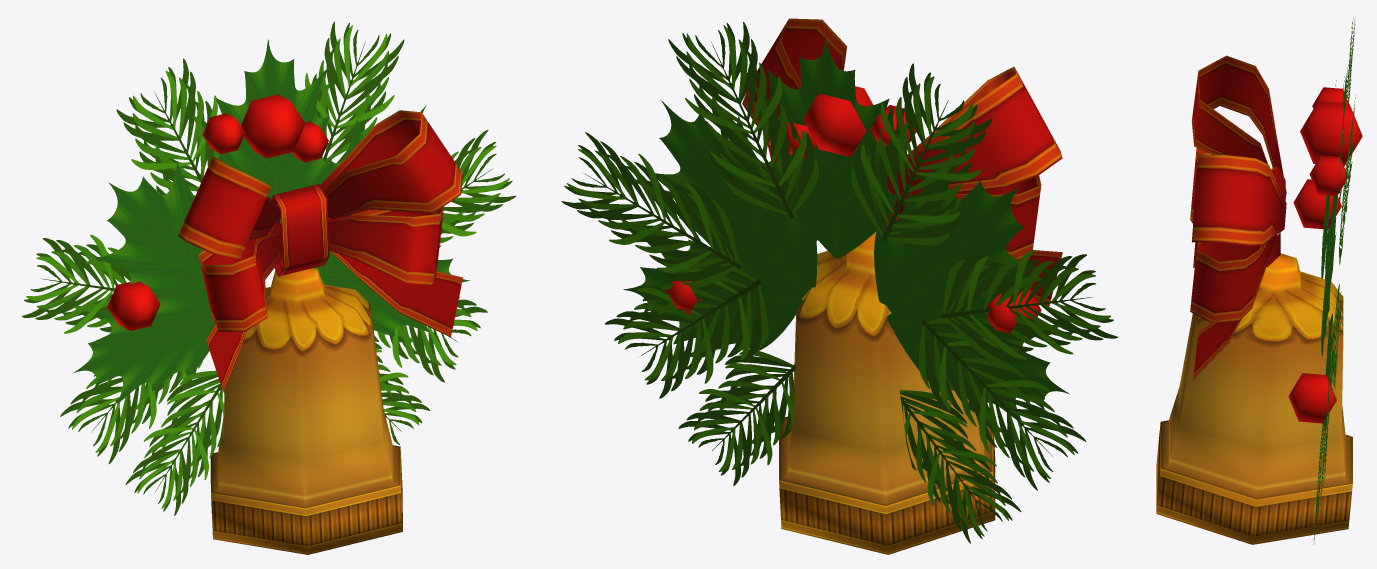
Rendered from Bell_02.FBX.
3 renders of one model, left to right at view 1: azimuth 30°, elevation 25°; view 2: azimuth 150°, elevation 25°; view 3: azimuth 270°, elevation 25°, orthographic. The views are drawn at different scales.
Visible parts, largest first — view 1: Object575; view 2: Object575; view 3: Object575.
Boxes of the visible parts, x1,y1,x2,y2 form: Object575: (21, 21, 515, 554); Object575: (561, 18, 1117, 554); Object575: (1156, 18, 1362, 544).
Size of the model in its own units: 20.95 by 18.65 by 7.26.
Materials: 1 (1 with a texture image).
